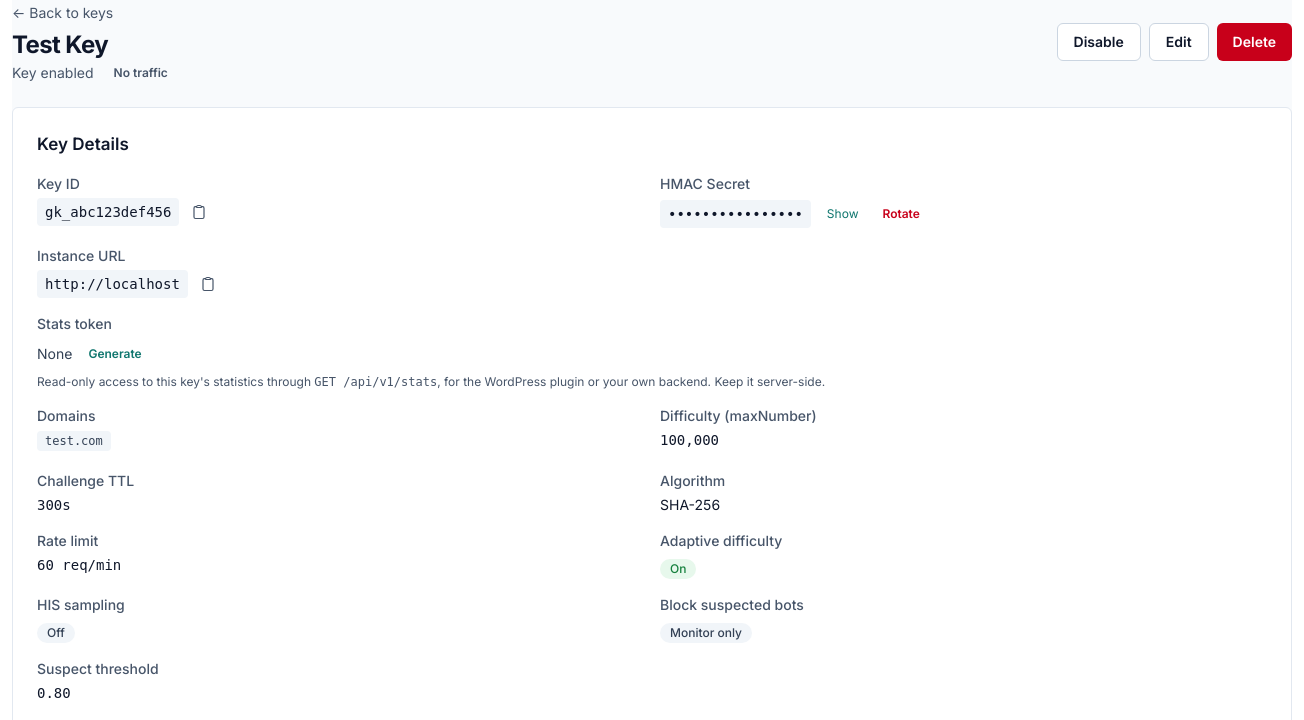
Test case: ApiKeyDetailView › generates a stats token and shows it once
Click the button "Generate".
click(115, 354)  # box [80,338,150,370]
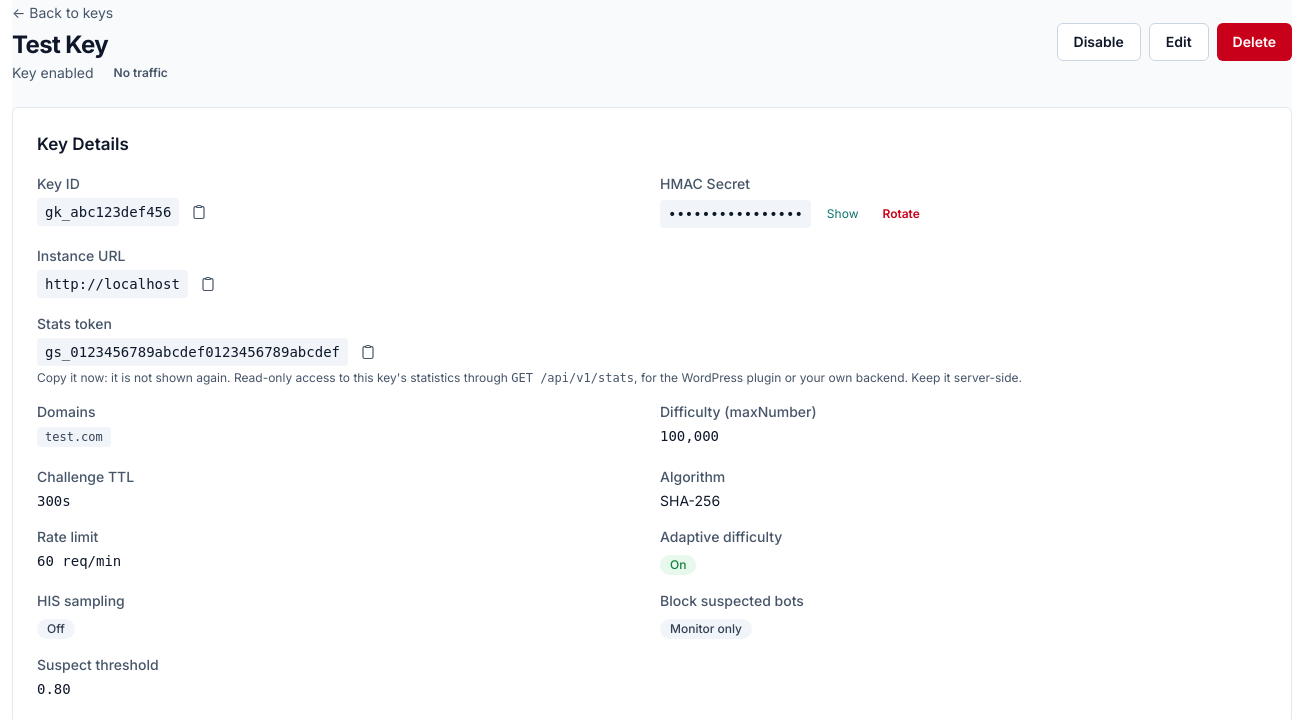
Expected: the text "gs_0123456789abcdef0123456789abcdef" is shown, [37,338,348,366]
Expected: the text "not shown again" is shown, [37,370,230,384]
Expected: the button named "Copy stats token" is shown, [356,340,380,364]
